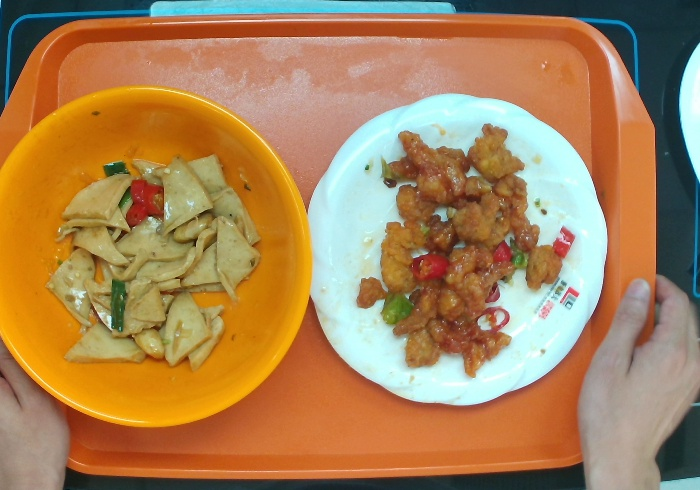ZNLD-Hua_Bian_Wan: (307, 93, 611, 407)
ZNLD-Ju_Se_Tang_Wan: (4, 84, 314, 431)
